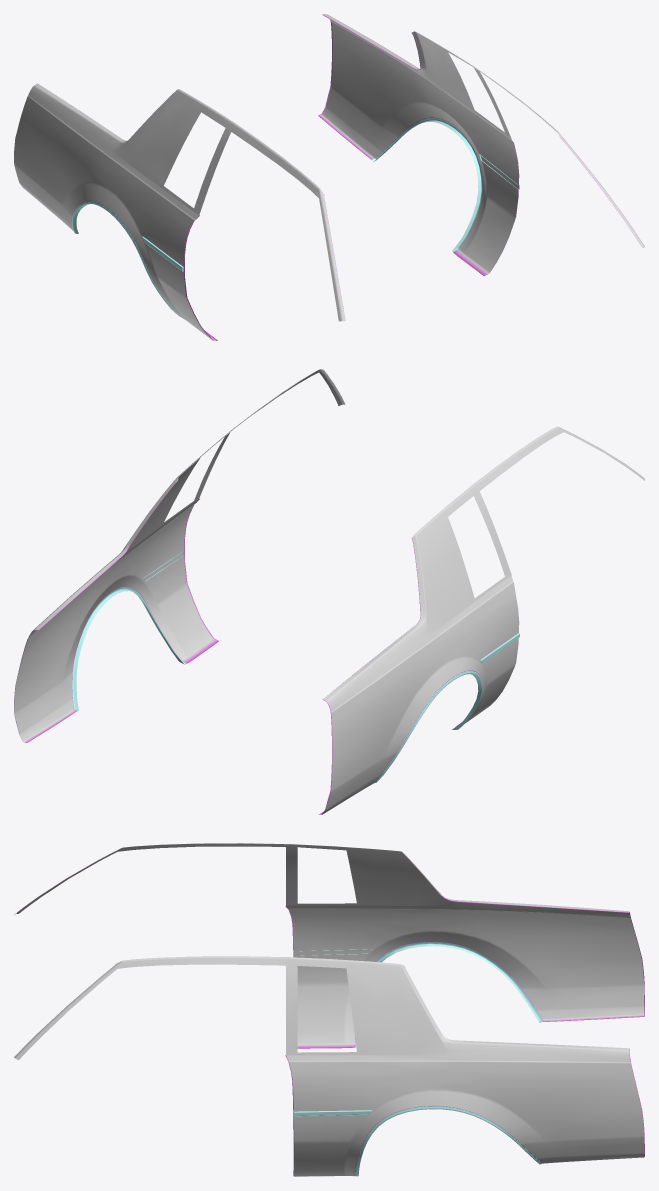
The model's file is Car_Buick_GrandNational_1987_FendersR_SetA.fbx.
The picture shows the model from 3 angles, top to bottom: view 1: azimuth 30°, elevation 25°; view 2: azimuth 150°, elevation 25°; view 3: azimuth 270°, elevation 25°; orthographic projection. The views are drawn at different scales.
Visible parts, largest first — view 1: FendersR 6; view 2: FendersR 6; view 3: FendersR 6.
Boxes of the visible parts, <box> form: FendersR 6: <box>14,14,644,340</box>; FendersR 6: <box>14,369,644,814</box>; FendersR 6: <box>14,843,644,1176</box>.
Bounding box in the file's own units: 1.88 × 1.12 × 3.03.
